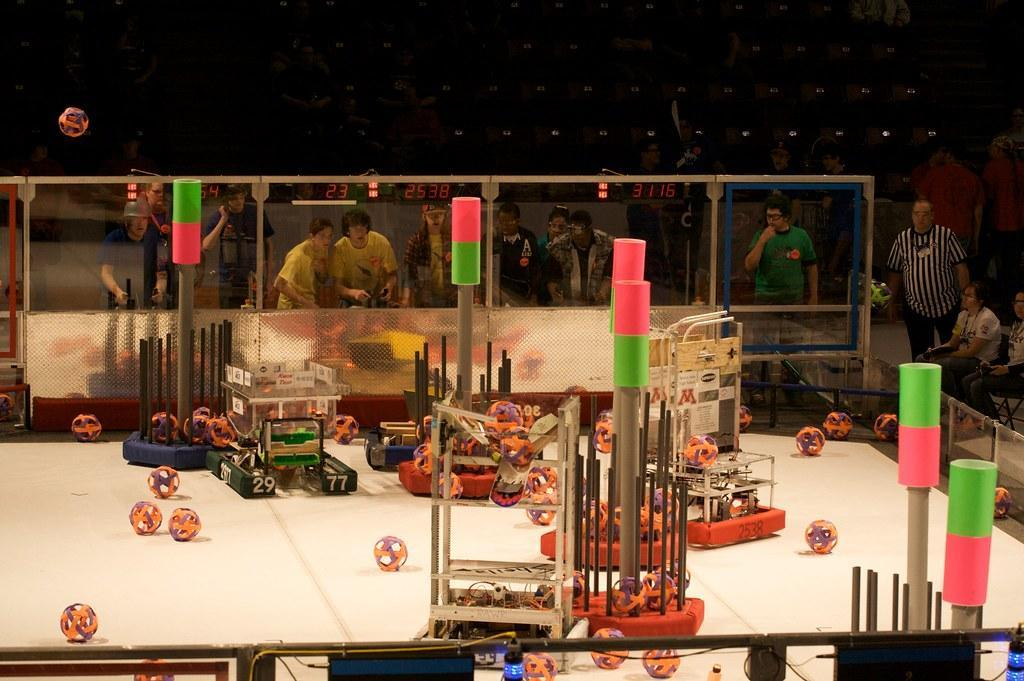robot: (405, 389, 594, 676), (622, 304, 793, 552), (199, 357, 365, 507)
